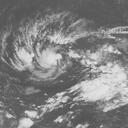cyclone: (4, 12, 68, 79)
